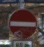No entry: (6, 6, 38, 42)
